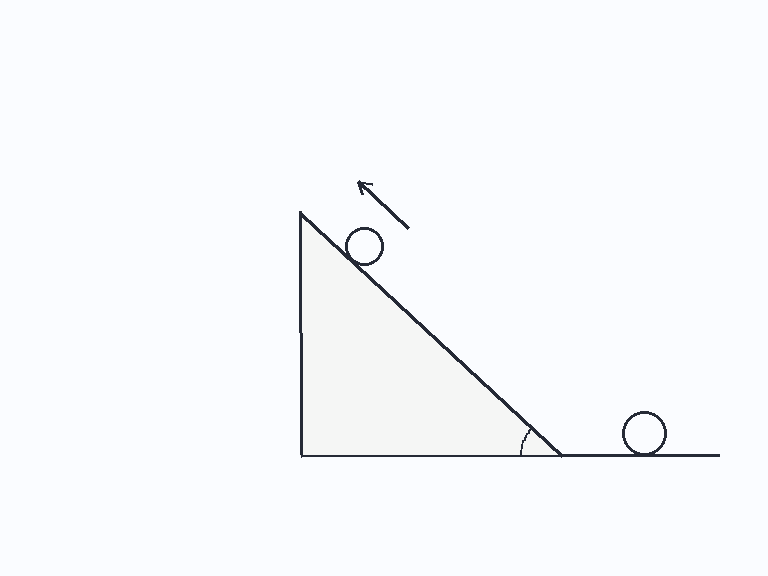ball: (620, 409, 668, 457), (343, 224, 385, 266)
ramp: (299, 210, 563, 457)
